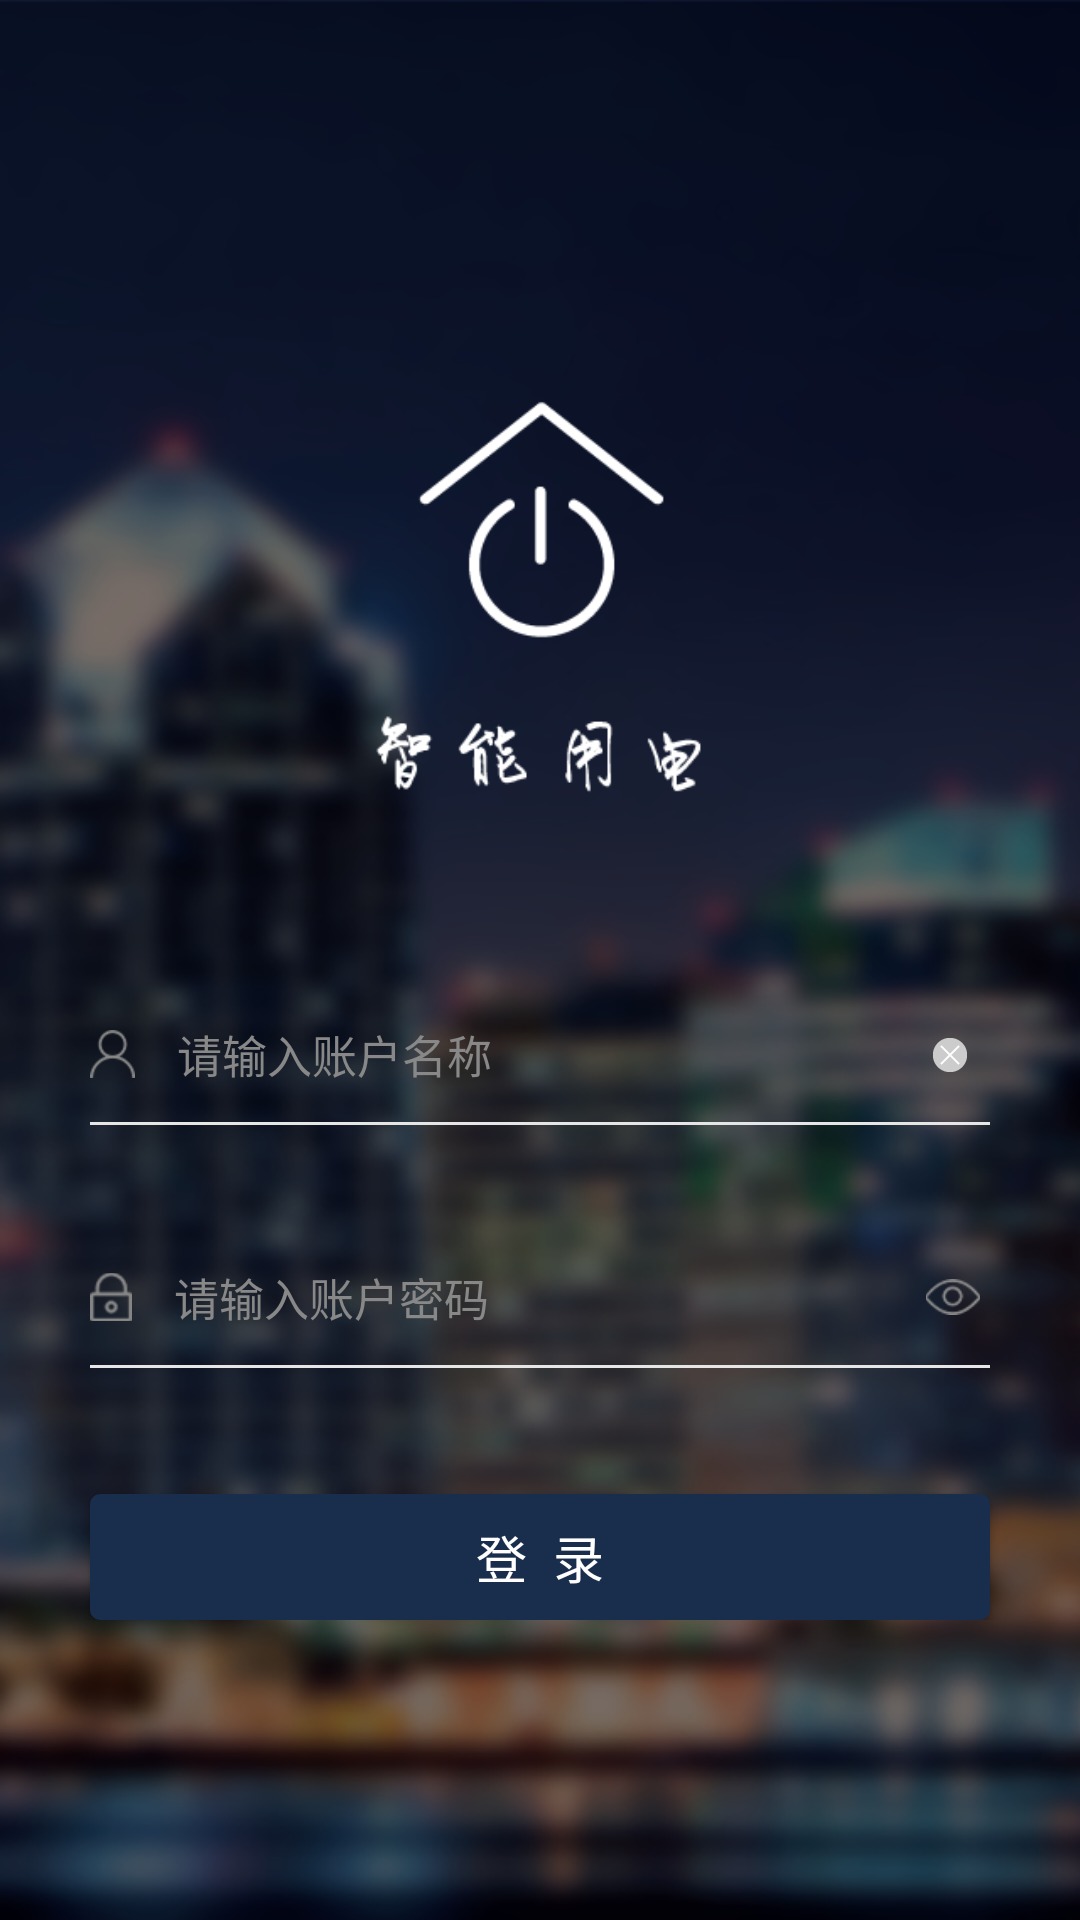

Screen size 1080*1920. Icon name, then its center in pixels as (x,y):
delete: (950,1055)
login passwd: (111,1297)
login users: (112,1054)
